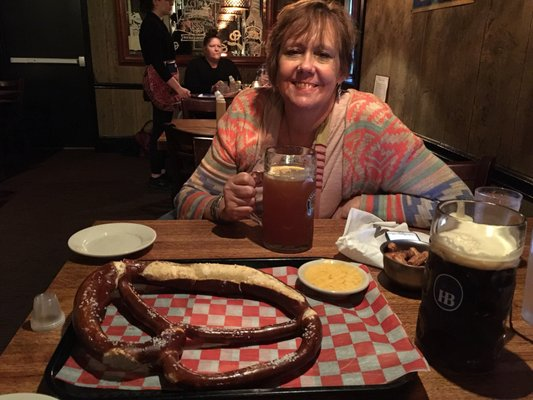pizza: (417, 194, 530, 374), (263, 146, 317, 254)
sushi: (295, 258, 372, 307), (379, 235, 430, 295)
